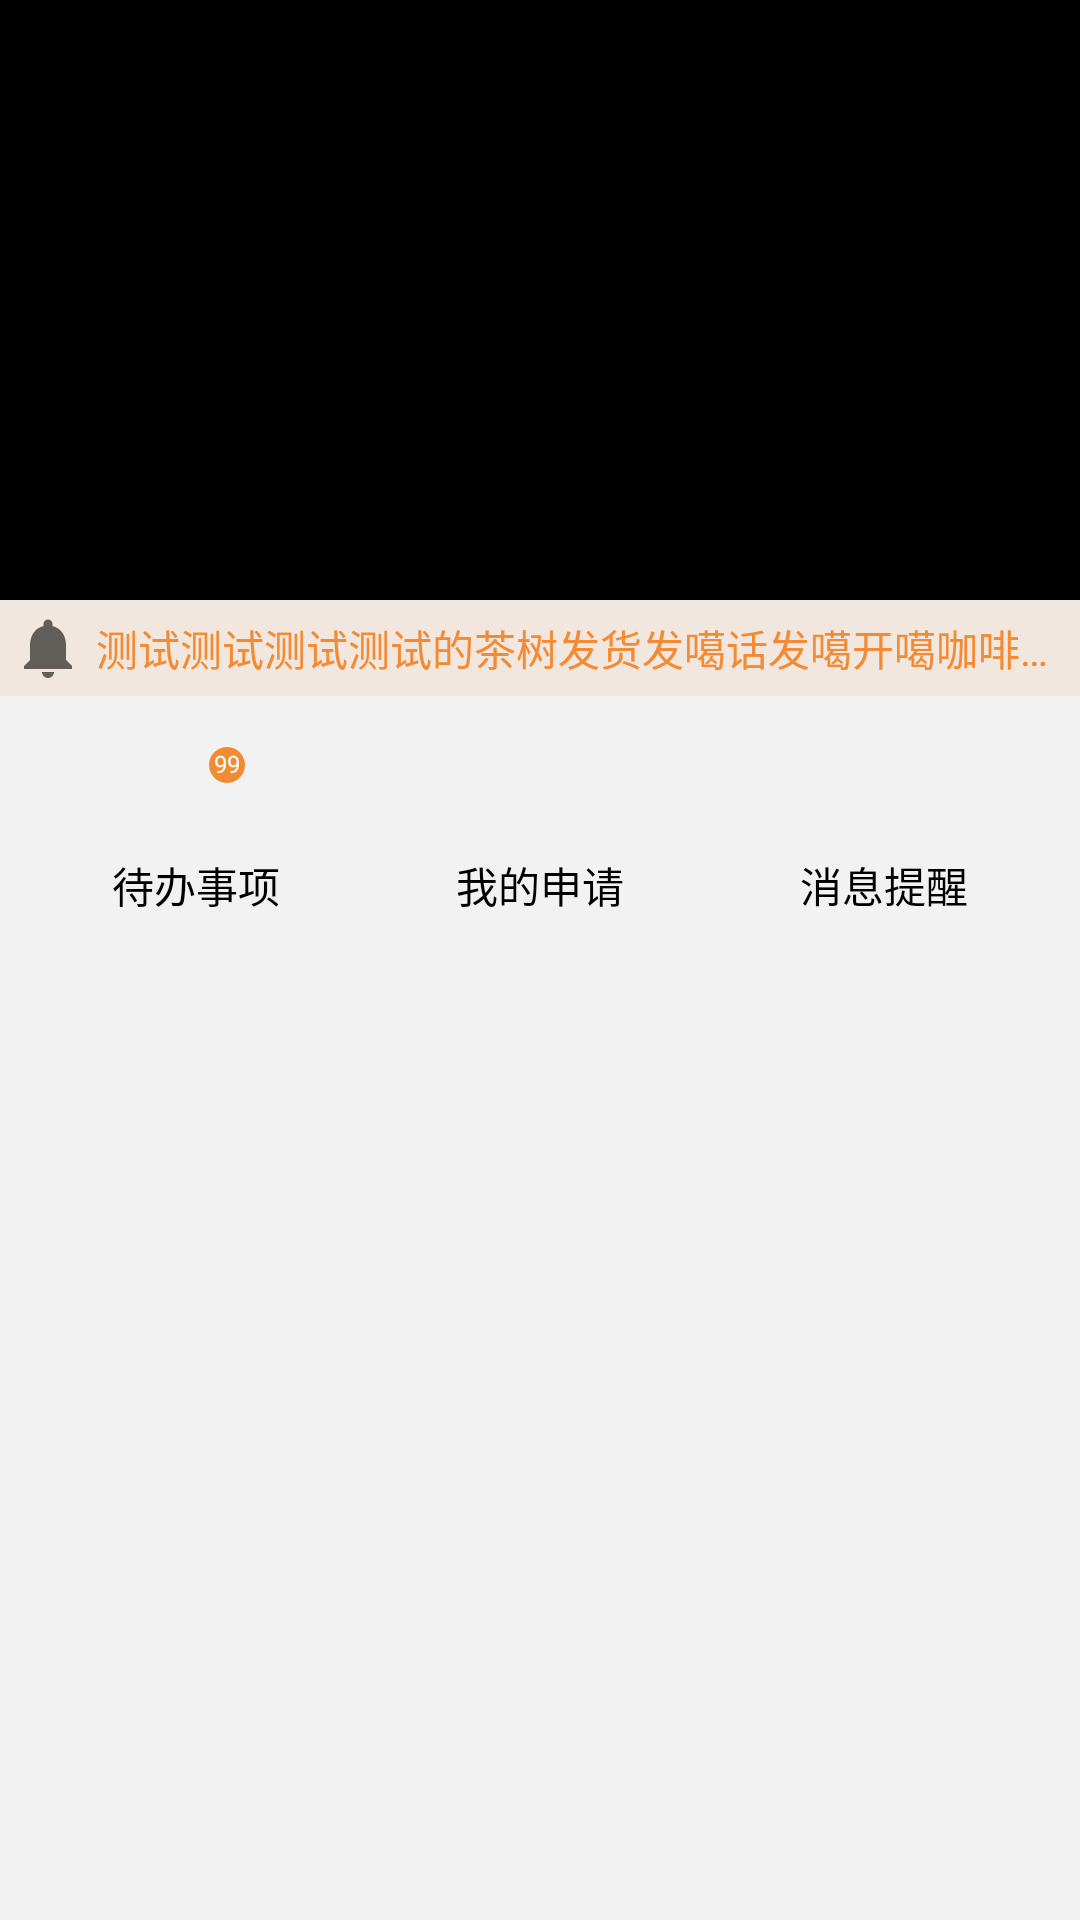

Screen size 1080w x 1920h. Icon name, then its box in pixels as (x1, y1, x2, y2):
notifications: (24, 619, 72, 678)
